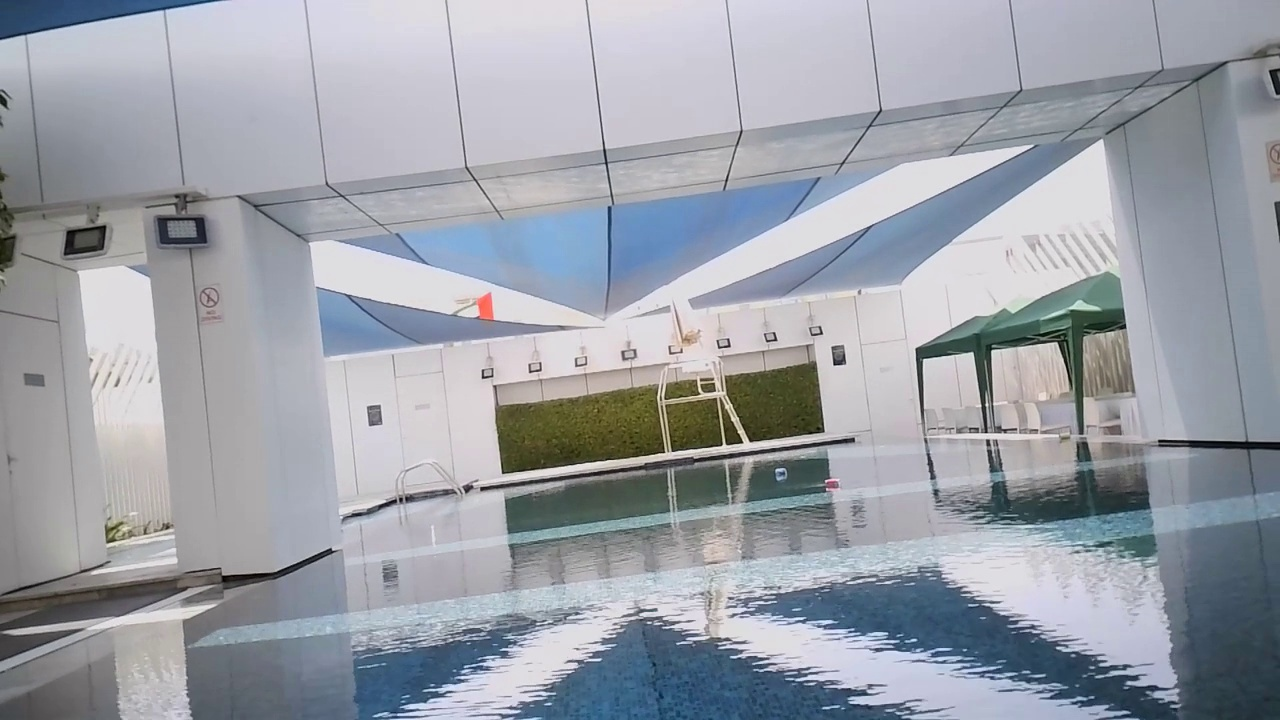debris: (770, 463, 791, 482), (821, 476, 844, 491), (1055, 429, 1073, 442)
